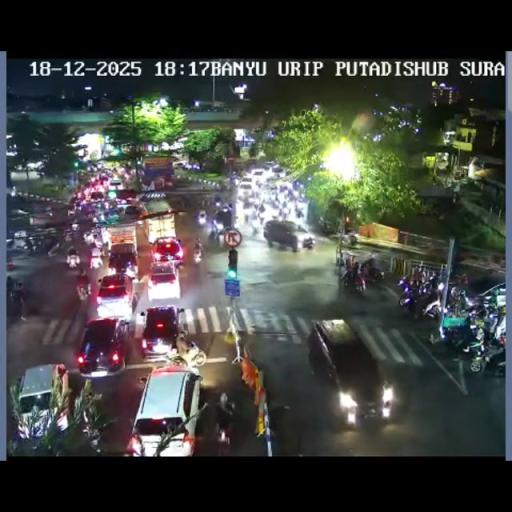Car: (307, 319, 392, 425), (127, 365, 201, 455), (14, 365, 67, 442), (76, 316, 130, 378), (139, 304, 184, 359), (95, 273, 135, 318), (263, 219, 317, 251), (146, 261, 182, 302), (107, 242, 139, 278), (151, 236, 185, 266), (114, 188, 140, 208), (238, 180, 253, 198), (122, 204, 142, 216), (250, 168, 266, 181), (172, 160, 188, 169), (263, 160, 275, 170), (108, 178, 122, 186)
Motorcycle: (463, 326, 504, 374), (258, 180, 306, 221), (398, 278, 440, 318), (266, 402, 294, 454), (81, 413, 102, 451), (214, 417, 233, 454), (6, 286, 26, 319), (360, 261, 385, 285), (74, 261, 90, 298), (485, 287, 502, 319), (220, 226, 242, 250), (465, 300, 488, 320), (218, 392, 234, 419), (37, 236, 58, 254), (207, 223, 222, 246), (449, 285, 467, 304), (341, 265, 356, 287), (338, 230, 358, 246), (317, 217, 334, 235), (66, 249, 80, 269), (451, 272, 468, 287), (90, 252, 102, 270), (192, 242, 202, 263), (26, 240, 38, 255), (242, 194, 254, 209), (250, 219, 261, 235), (92, 234, 102, 250), (197, 206, 206, 223), (276, 205, 286, 220), (102, 239, 110, 257), (294, 204, 303, 219), (230, 175, 240, 188), (292, 179, 302, 192), (200, 197, 210, 209), (257, 210, 265, 224), (213, 196, 222, 208), (67, 204, 75, 217), (64, 230, 72, 242), (70, 221, 78, 233), (92, 214, 100, 226)
